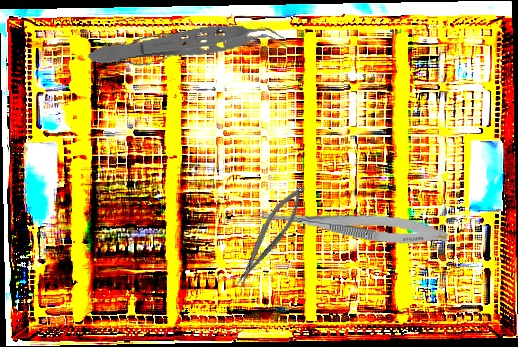Micro Scissor: (246, 203, 450, 249), (110, 14, 232, 74)
Needle Holder: (225, 179, 314, 292)
Tissue Forceps: (84, 16, 293, 74)
